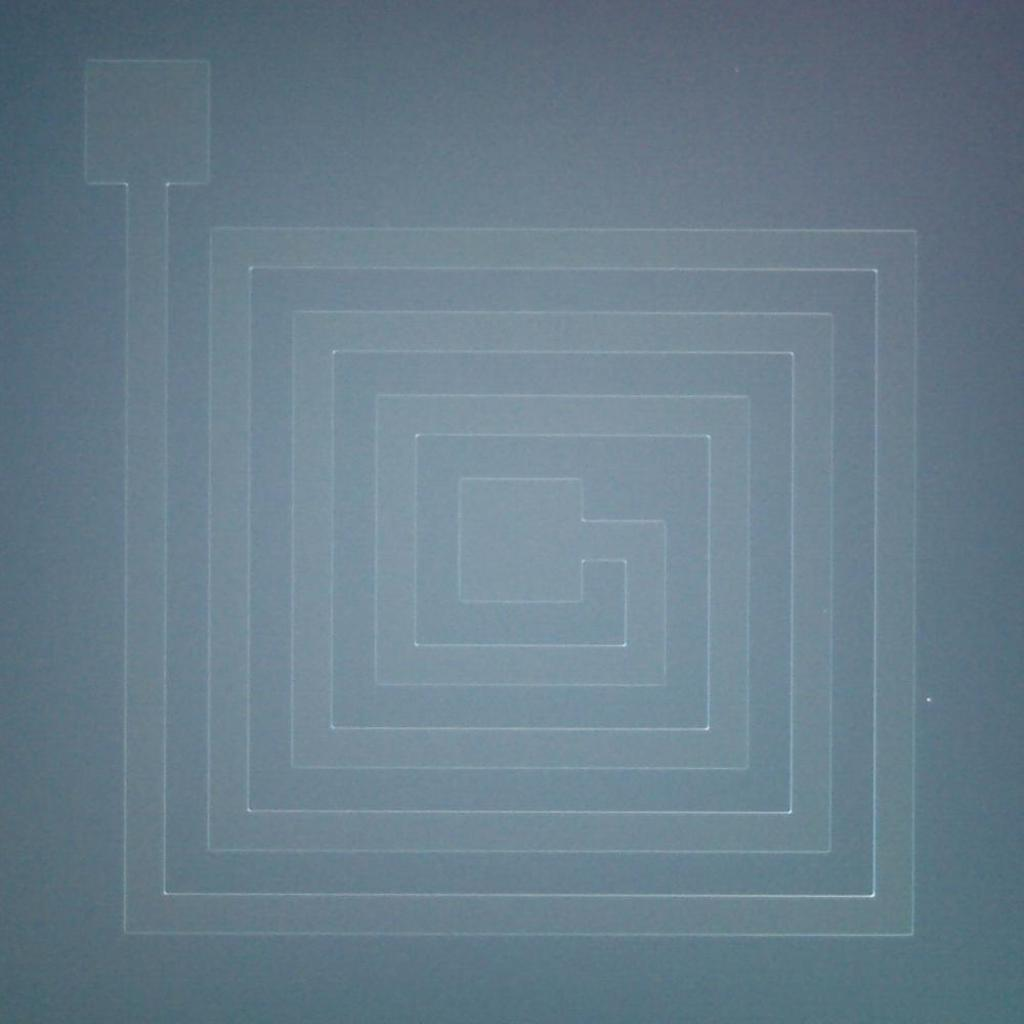dot: (926, 698, 930, 702)
